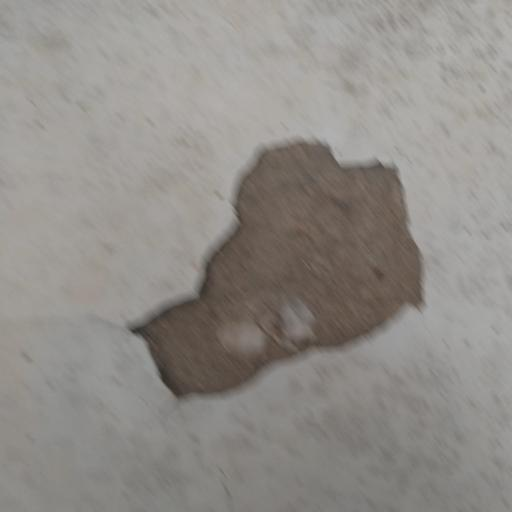peeling: (124, 125, 444, 404)
